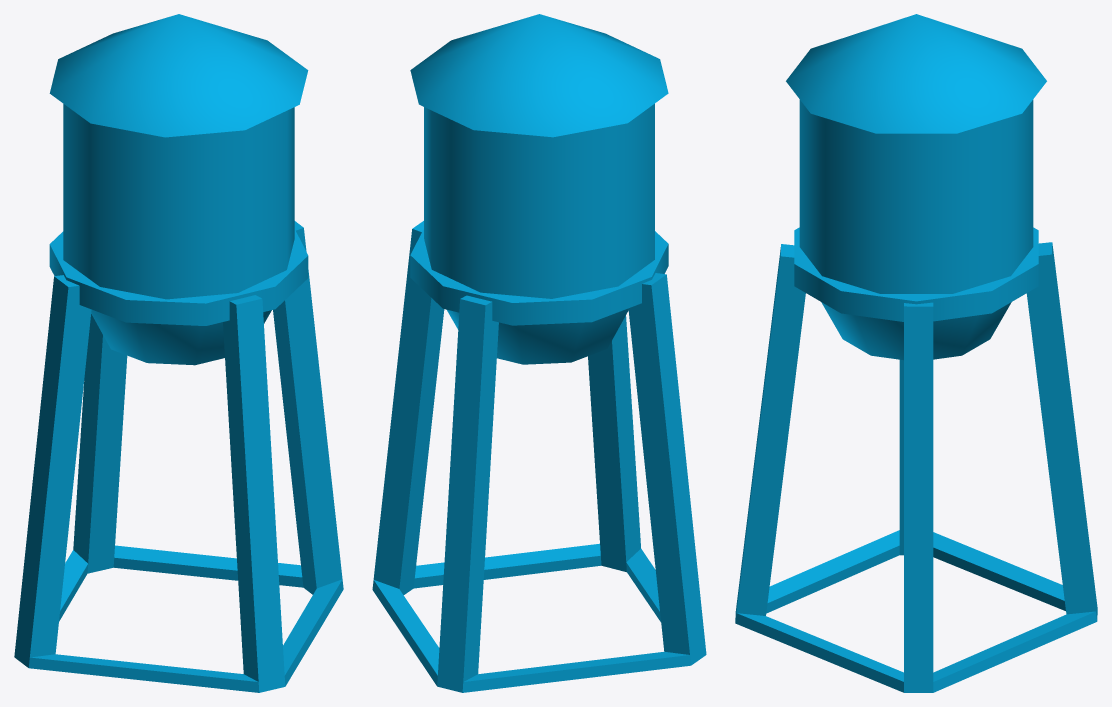
The model's file is Water_Tower_02_Lod2.fbx.
The picture shows the model from 3 angles, left to right: view 1: azimuth 30°, elevation 25°; view 2: azimuth 150°, elevation 25°; view 3: azimuth 270°, elevation 25°; orthographic projection.
Parts seen in each view (by area): view 1: Water_Tower_02_Lod2; view 2: Water_Tower_02_Lod2; view 3: Water_Tower_02_Lod2.
Part boxes in pixels (x1=…): Water_Tower_02_Lod2: x1=14, y1=14, x2=343, y2=692; Water_Tower_02_Lod2: x1=372, y1=14, x2=706, y2=692; Water_Tower_02_Lod2: x1=735, y1=14, x2=1097, y2=692.
Bounding box in the file's own units: 602 × 1109 × 602.
